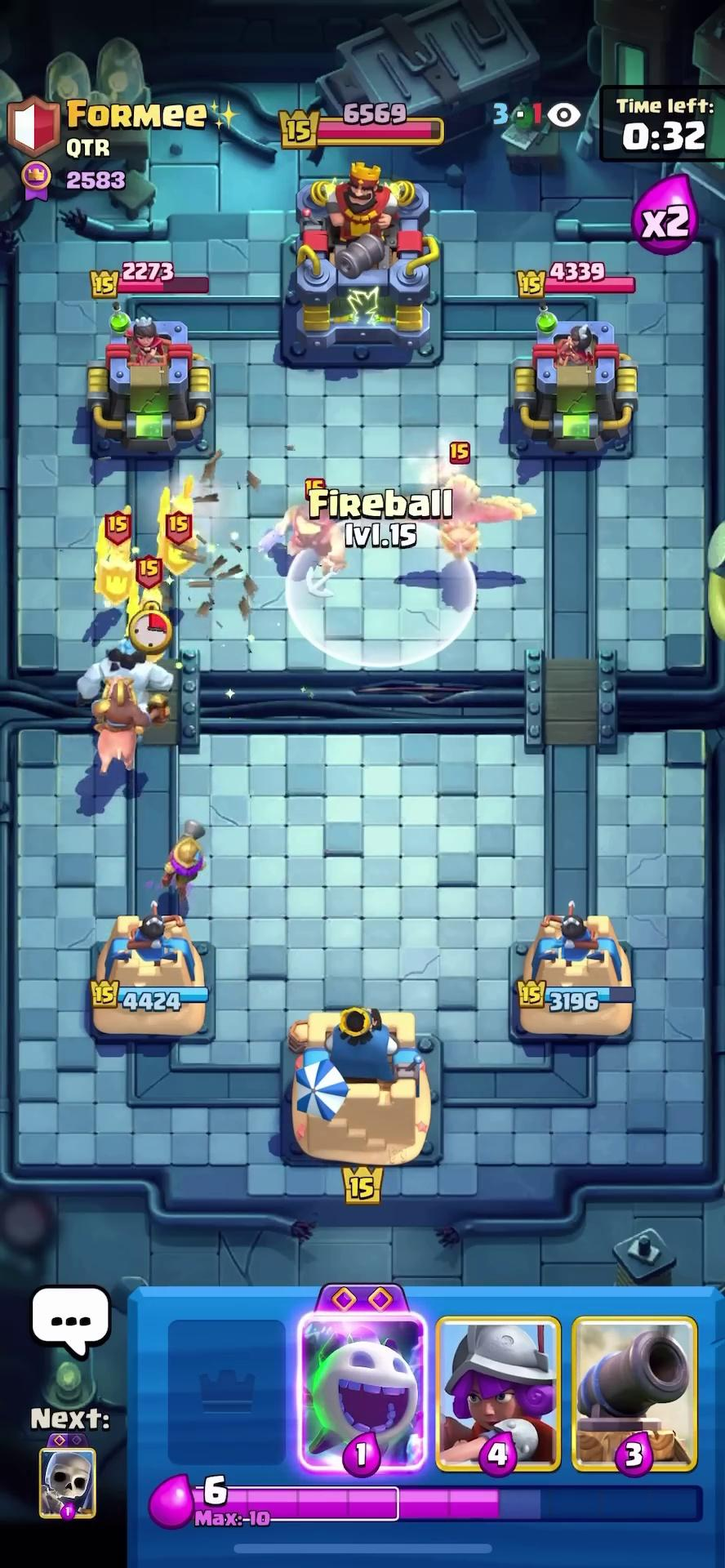hog_rider: (63, 672, 176, 772)
ice_golem: (76, 635, 178, 706)
musketeer: (153, 808, 227, 890)
